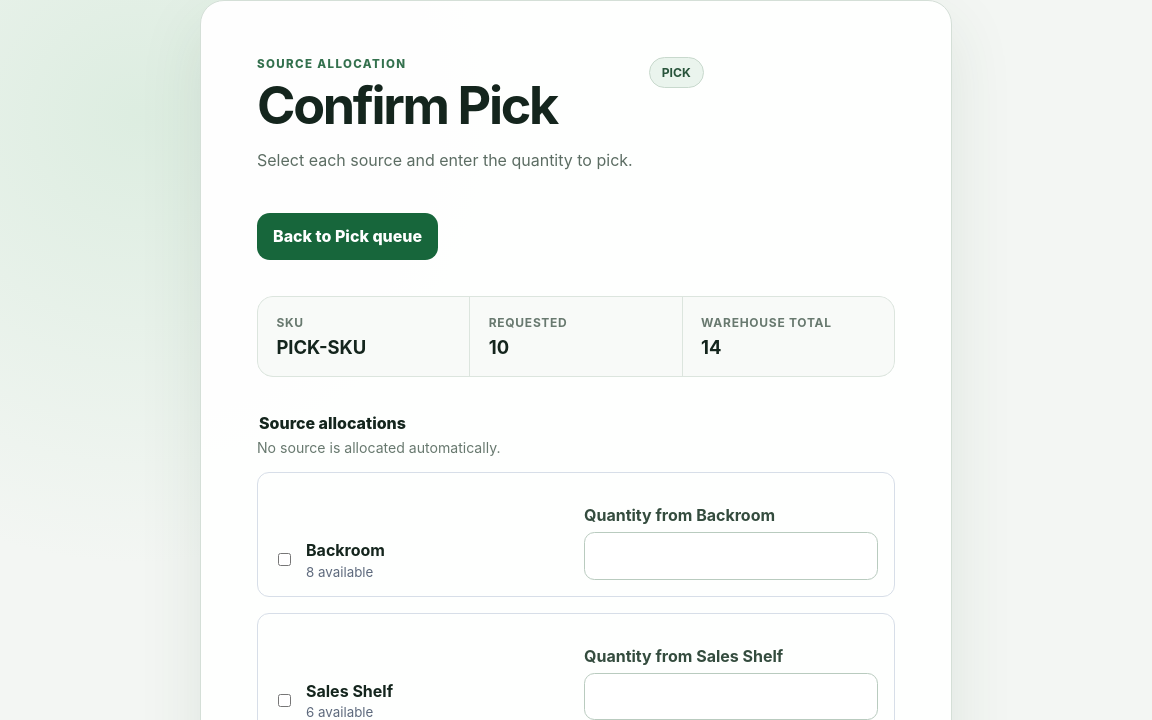
US-PICK-001 Pick page › posts a full multi-location Pick without a partial gate
Check: the text "PICK-SKU" is shown, box [276, 336, 366, 358]
Click the checkbox labelled "Backroom 8 available" at (284, 560), box [278, 553, 291, 566]
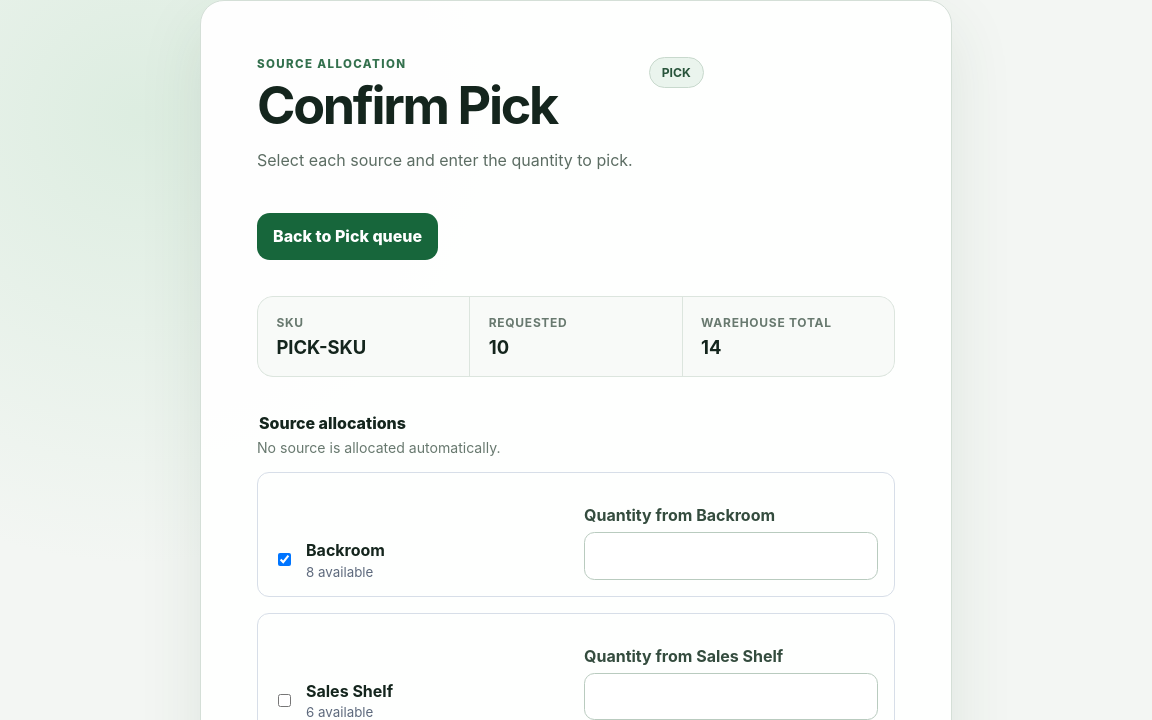
Type "6" into the field labelled "Quantity from Backroom" at (731, 556), box [584, 532, 878, 580]
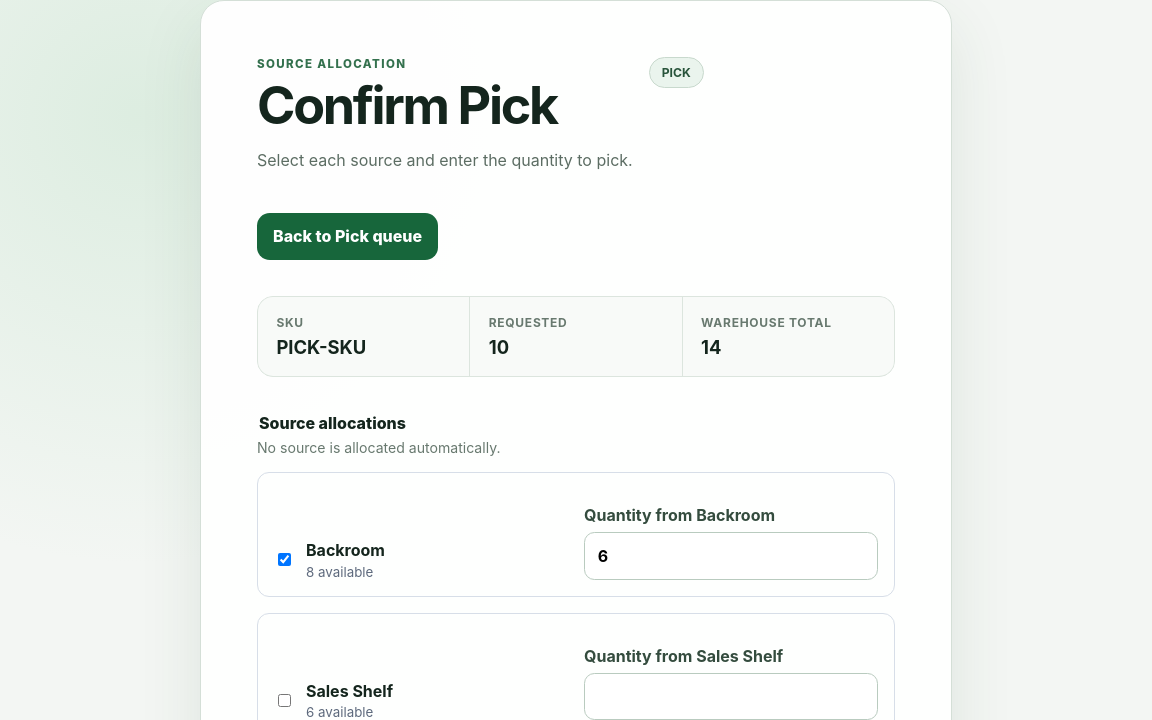
Click the checkbox labelled "Sales Shelf 6 available" at (284, 701), box [278, 694, 291, 707]
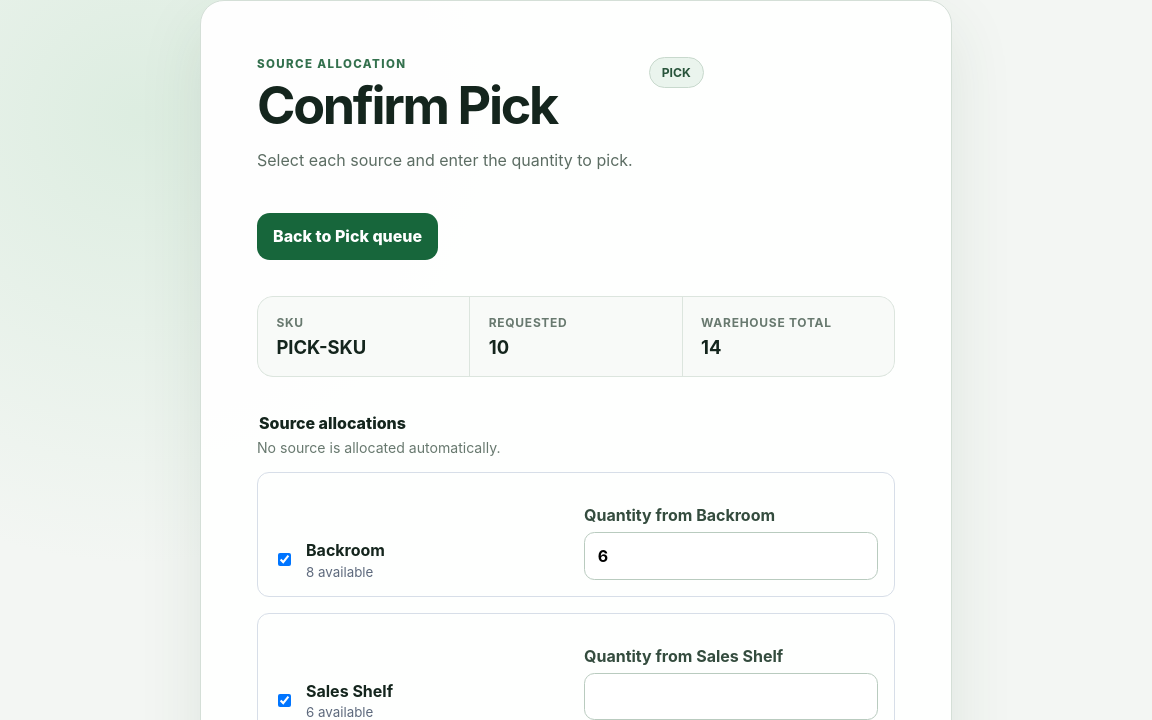
Type "4" into the field labelled "Quantity from Sales Shelf" at (731, 696), box [584, 673, 878, 719]
(page scrolled)
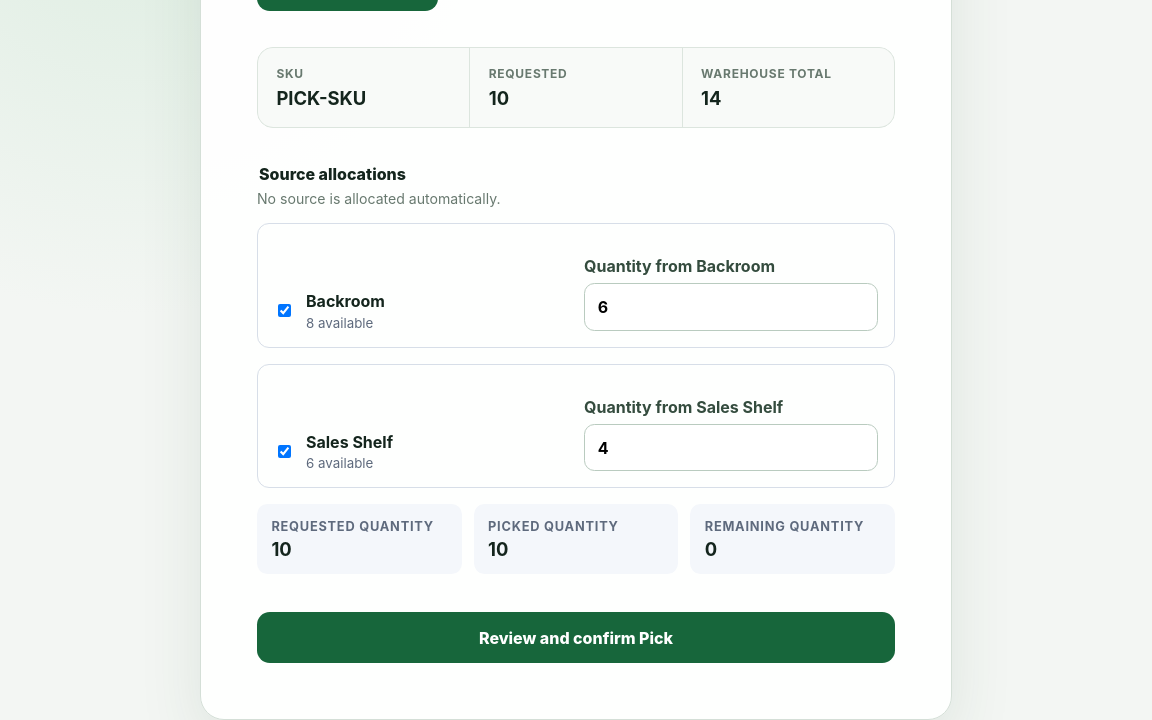
Click the button "Review and confirm Pick" at (576, 638), box [257, 612, 895, 663]
(page scrolled)
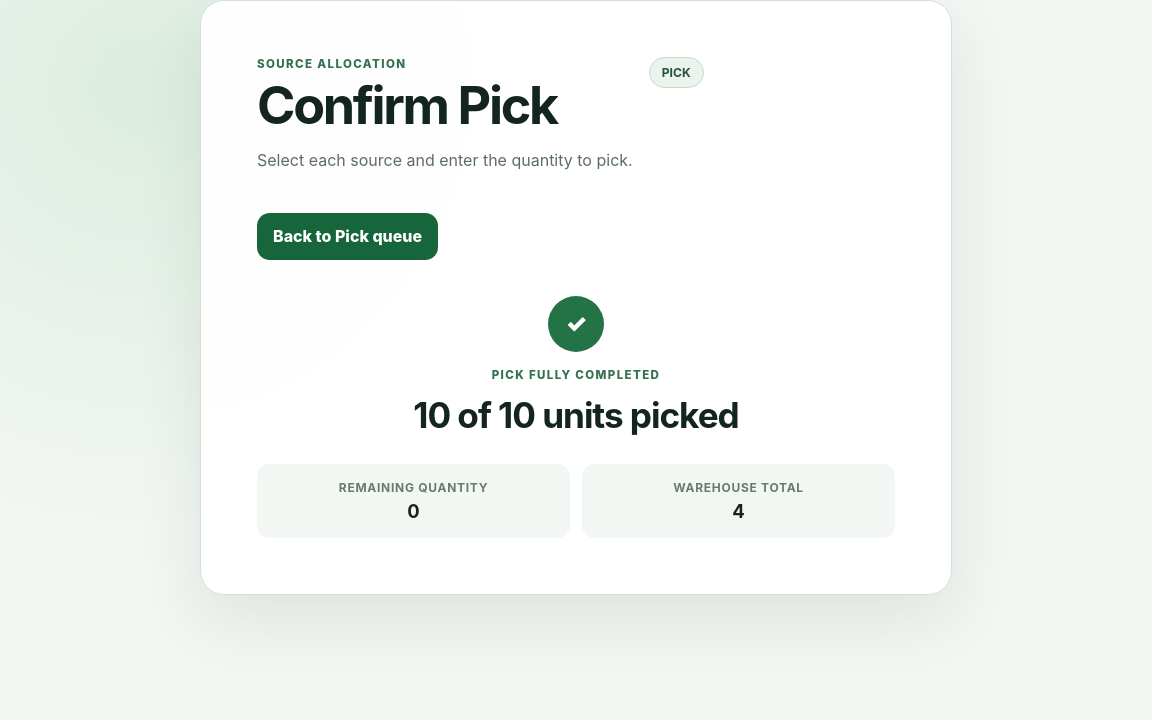
Check: the text "Pick fully completed" is shown, box [492, 368, 660, 382]
